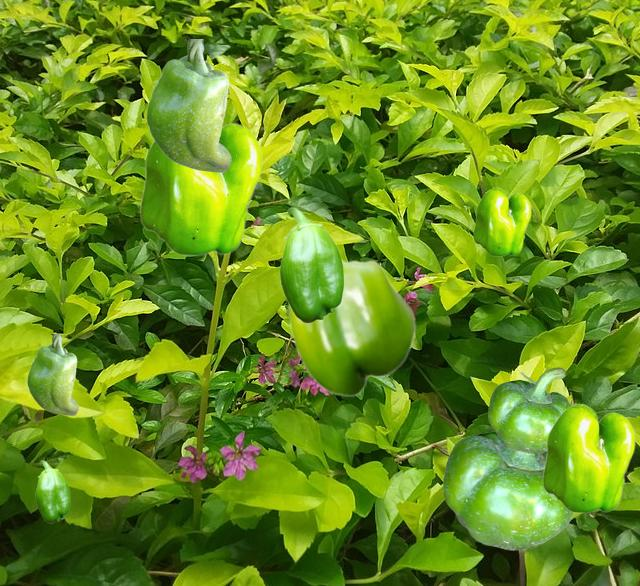bell_pepper: (288, 258, 415, 396), (139, 121, 261, 255), (443, 431, 574, 549), (146, 39, 230, 171), (542, 403, 634, 512), (279, 207, 343, 322), (488, 367, 571, 452), (27, 334, 77, 414), (473, 187, 530, 255), (35, 460, 69, 522)
